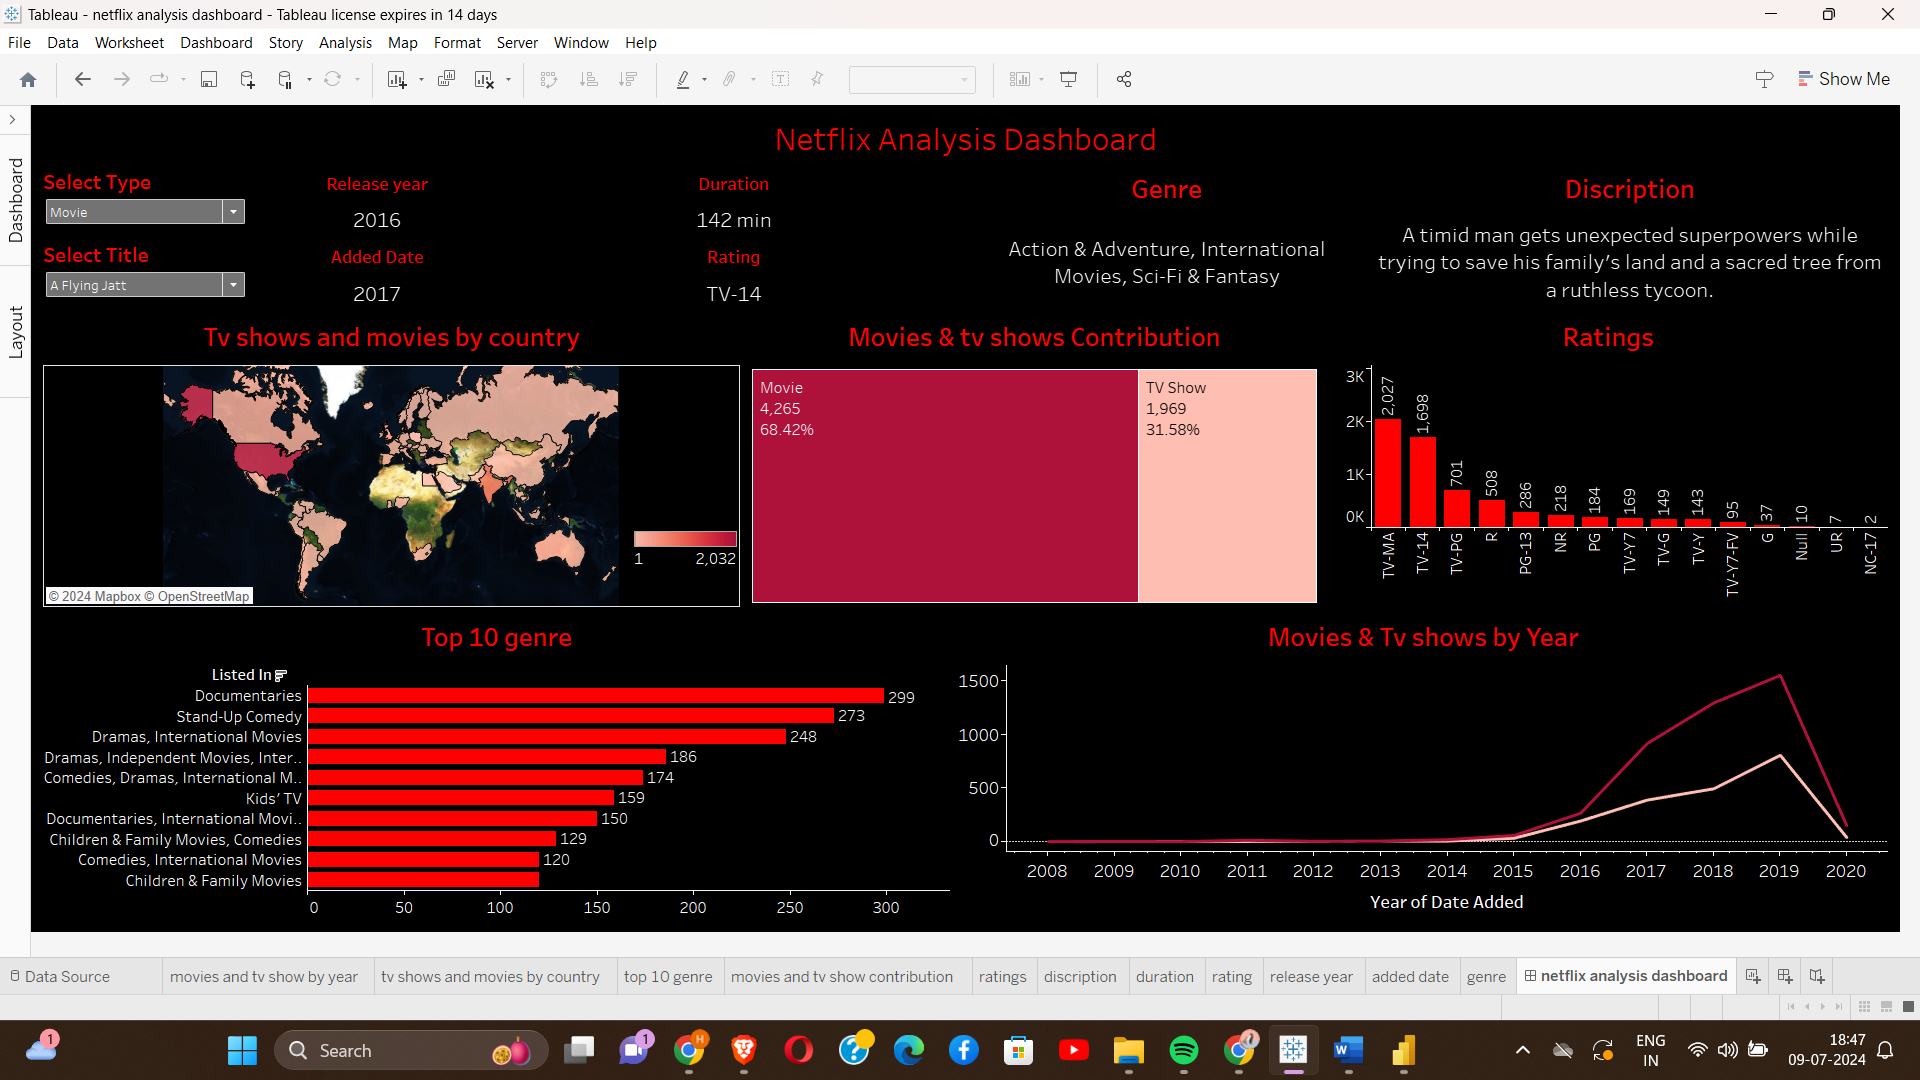

The dashboard page shown, as its layout file describes it:
{"tool":"tableau","page":{"name":"netflix analysis dashboard","canvas":[1869,827],"ordinal":0},"visuals":[{"type":"title","box":[8,8,1853,50]},{"type":"filter","title":"discription","param":"[federated.0881afu1lp4bbp15tgpyq14dytr7].[none:type:nk]","box":[8,58,212.8,73.2]},{"type":"worksheet","title":"release year","mark":"Automatic","box":[220.8,58,250.4,73.2]},{"type":"worksheet","title":"duration","mark":"Automatic","box":[471.2,58,463.3,73.2]},{"type":"worksheet","title":"genre","mark":"Automatic","box":[934.5,58,401.5,148]},{"type":"worksheet","title":"discription","mark":"Automatic","box":[1336,58,525,148]},{"type":"filter","title":"discription","param":"[federated.0881afu1lp4bbp15tgpyq14dytr7].[none:title:nk]","box":[8,131.2,212.8,74.8]},{"type":"worksheet","title":"added date","mark":"Automatic","box":[220.8,131.2,250.4,74.8]},{"type":"worksheet","title":"rating","mark":"Automatic","box":[471.2,131.2,463.3,74.8]},{"type":"worksheet","title":"tv shows and movies by country","mark":"Multipolygon","box":[8,206,705,300]},{"type":"worksheet","title":"movies and tv show contribution","mark":"Automatic","box":[713,206,580,300]},{"type":"worksheet","title":"ratings","mark":"Automatic","rows":["show_id"],"cols":["rating"],"box":[1293,206,568,300]},{"type":"legend","title":"tv shows and movies by country","param":"[federated.0881afu1lp4bbp15tgpyq14dytr7].[ctd:show_id:qk]","box":[599,422,111,50]},{"type":"worksheet","title":"top 10 genre","mark":"Automatic","rows":["listed_in"],"cols":["show_id"],"box":[8,506,915,313]},{"type":"worksheet","title":"movies and tv show by year","mark":"Automatic","rows":["show_id"],"cols":["date_added"],"box":[923,506,938,313]}]}

Visuals, with their boxes in screenshot pixels (x1, y1, x2, y2):
title: <box>23,48,1900,99</box>
"discription" filter: <box>23,99,239,173</box>
"release year" worksheet: <box>239,99,492,173</box>
"duration" worksheet: <box>492,99,962,173</box>
"genre" worksheet: <box>962,99,1368,249</box>
"discription" worksheet: <box>1368,99,1900,249</box>
"discription" filter: <box>23,173,239,249</box>
"added date" worksheet: <box>239,173,492,249</box>
"rating" worksheet: <box>492,173,962,249</box>
"tv shows and movies by country" worksheet (Multipolygon marks): <box>23,249,737,553</box>
"movies and tv show contribution" worksheet: <box>737,249,1325,553</box>
"ratings" worksheet: <box>1325,249,1900,553</box>
"tv shows and movies by country" legend: <box>622,468,734,518</box>
"top 10 genre" worksheet: <box>23,553,950,870</box>
"movies and tv show by year" worksheet: <box>950,553,1900,870</box>
